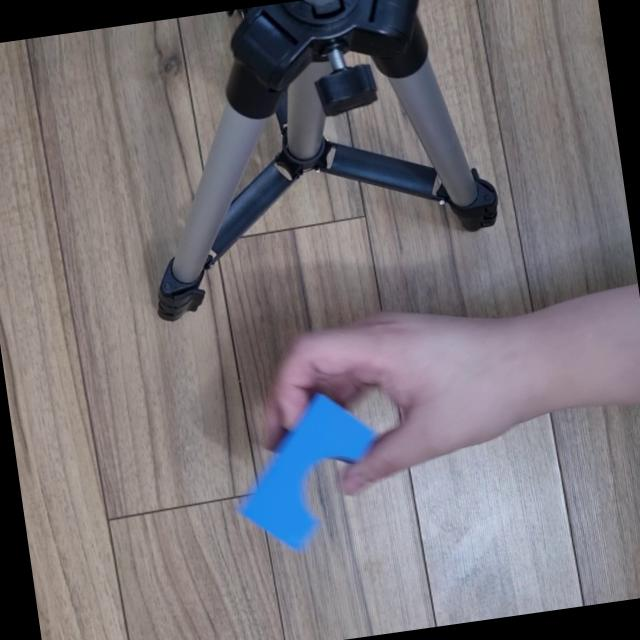block: (225, 381, 392, 558)
hand: (219, 273, 526, 509)
